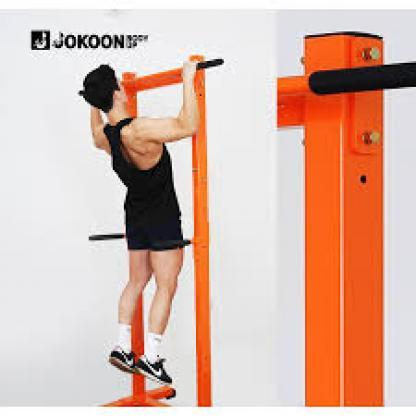chinning dipping: (78, 55, 227, 406)
